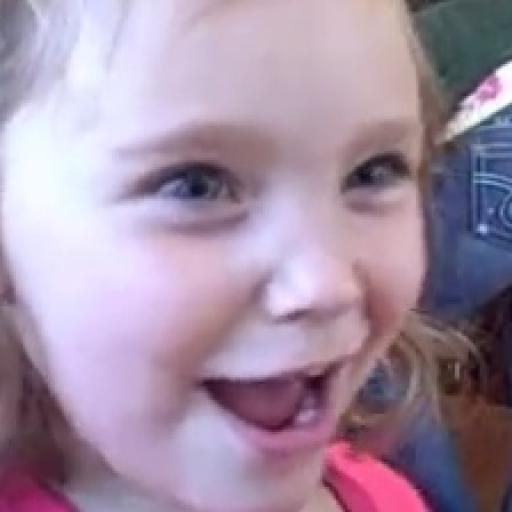Autism: (11, 13, 475, 512)
